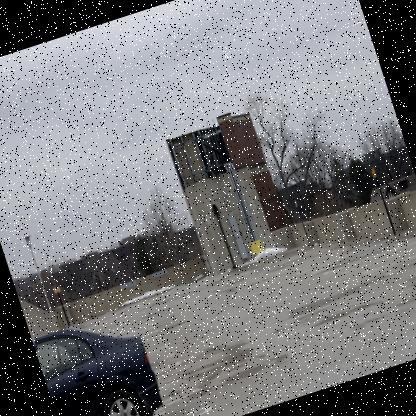Car: (33, 307, 173, 415)
